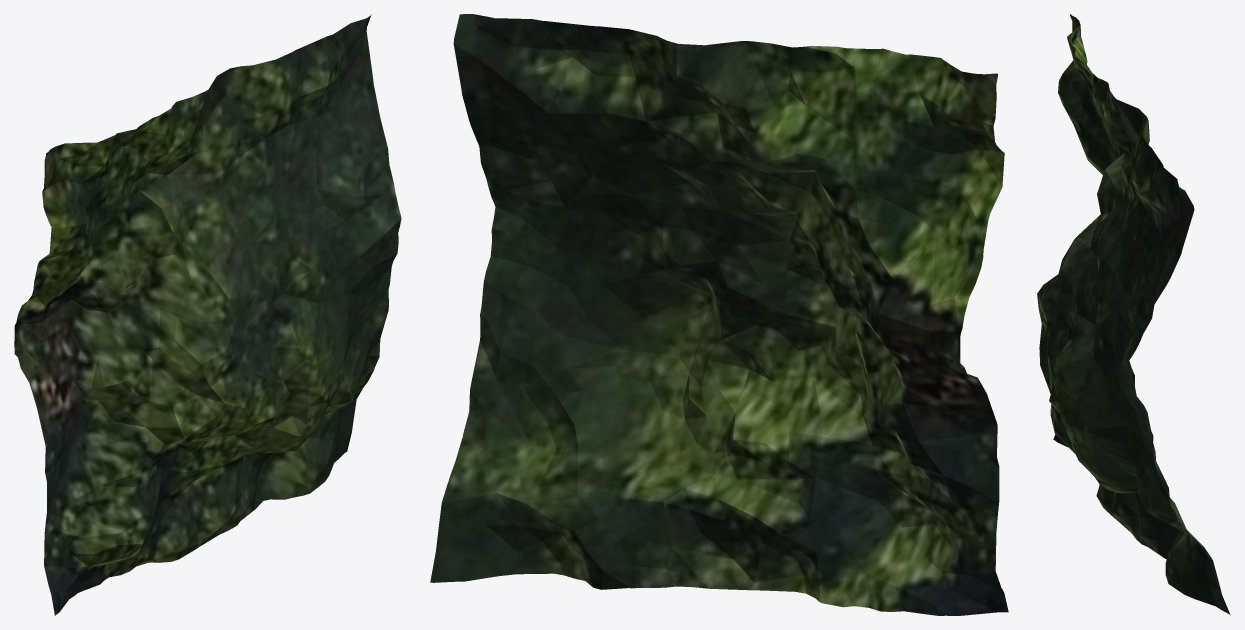
Rendered from tile_5_25_12_tex.obj.
3 renders of one model, left to right at view 1: azimuth 30°, elevation 25°; view 2: azimuth 150°, elevation 25°; view 3: azimuth 270°, elevation 25°, orthographic. The views are drawn at different scales.
Visible parts, largest first — view 1: obj_0; view 2: obj_0; view 3: obj_0.
Part boxes in pixels (x1,y1,x2,y2): obj_0: (14,14,401,615); obj_0: (430,14,1008,615); obj_0: (1037,14,1230,615).
Size of the model in its own units: 5.01 by 5.64 by 2.33.
1 material, 1 textured.
